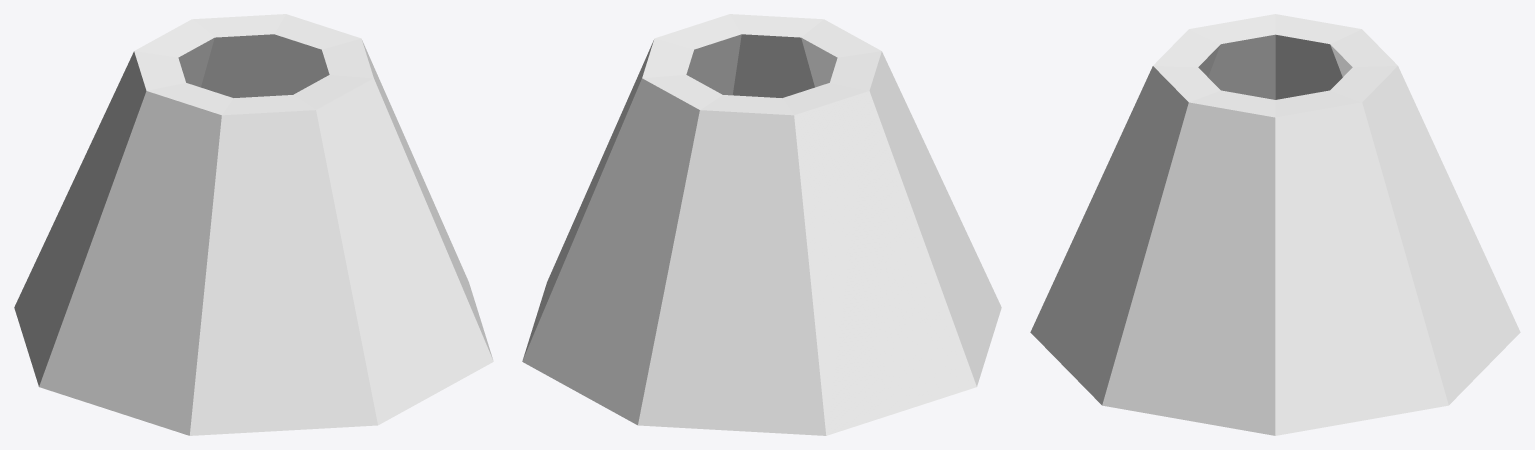
3 views of the same model, side by side, from view 1: azimuth 30°, elevation 25°; view 2: azimuth 150°, elevation 25°; view 3: azimuth 270°, elevation 25° (orthographic).
Visible parts, largest first — view 1: Cone; view 2: Cone; view 3: Cone.
Part boxes in pixels (x1=…): Cone: x1=14, y1=14, x2=493, y2=435; Cone: x1=522, y1=14, x2=1001, y2=435; Cone: x1=1030, y1=14, x2=1520, y2=435.
Size of the model in its own units: 10 by 6 by 10.
Materials: 1 (1 with a texture image).
